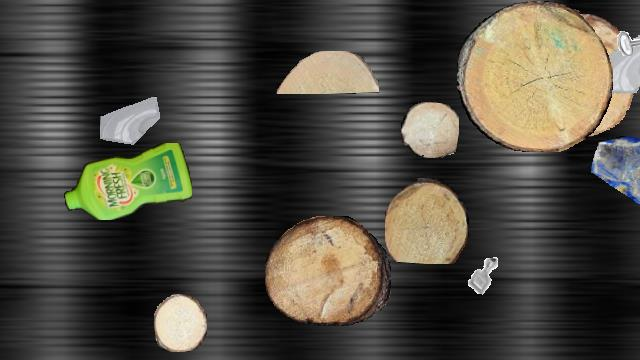glass: (591, 136, 640, 220), (100, 96, 162, 158), (591, 33, 640, 109)
metal: (458, 250, 510, 302), (606, 1, 640, 55)
plastic: (64, 143, 192, 219)
wood: (457, 1, 613, 151), (517, 14, 635, 138), (265, 216, 391, 326), (385, 178, 469, 264), (276, 51, 378, 93), (401, 102, 459, 158), (154, 294, 206, 352)
